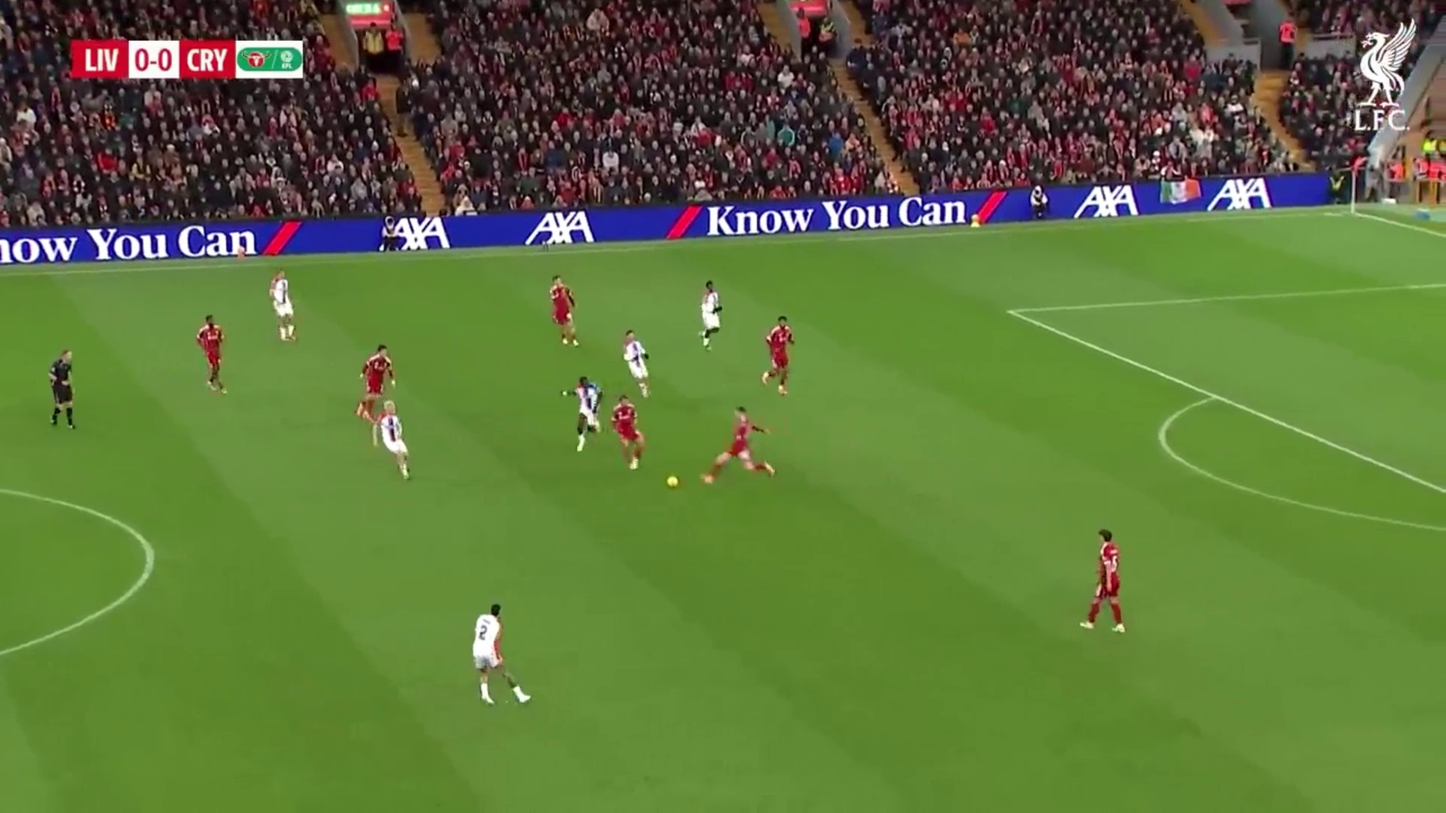player: (354, 355, 412, 480), (472, 602, 533, 708), (702, 407, 775, 479), (1083, 528, 1126, 632), (472, 603, 513, 707), (356, 345, 399, 444), (366, 409, 411, 481), (194, 314, 227, 395), (762, 317, 795, 395), (570, 374, 602, 454), (357, 347, 393, 418), (611, 399, 646, 471), (47, 349, 78, 429), (621, 329, 652, 403), (548, 278, 580, 349), (380, 409, 411, 480), (269, 270, 298, 344), (699, 279, 725, 349)
